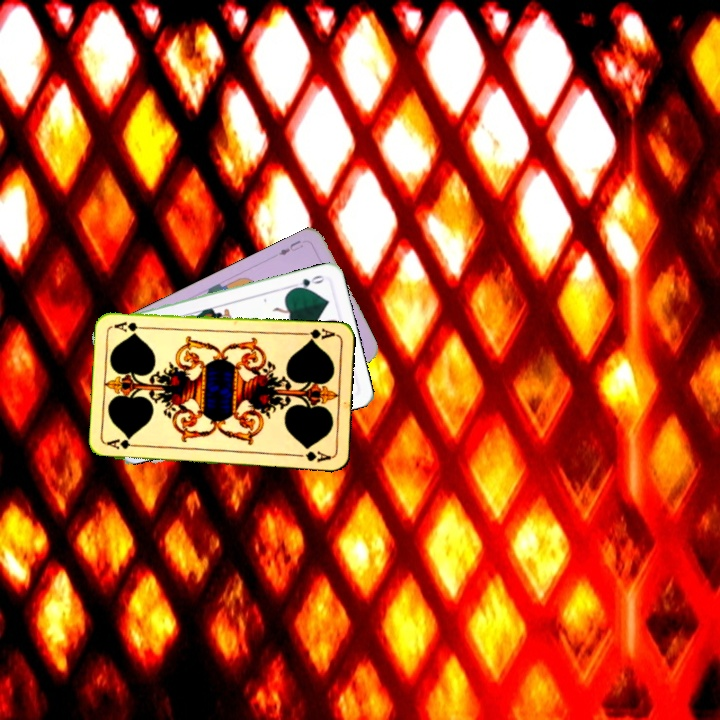EU: (275, 236, 306, 258)
GA: (298, 325, 338, 344), (103, 435, 144, 452)
GO: (289, 271, 328, 292)
